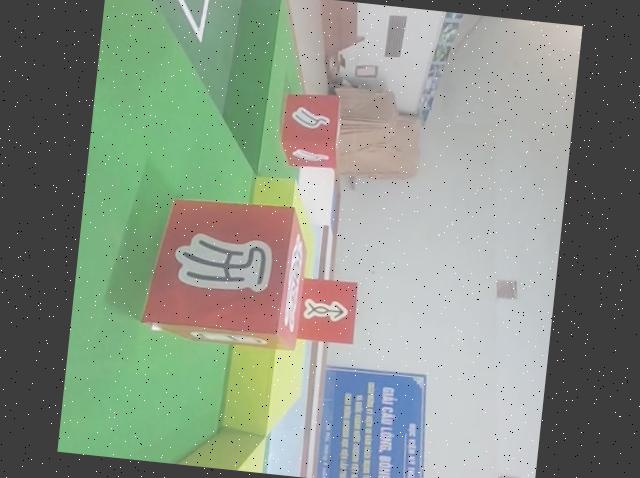R2 Fake: (136, 189, 315, 354)
R2 Real: (274, 87, 348, 170), (289, 271, 361, 348)
